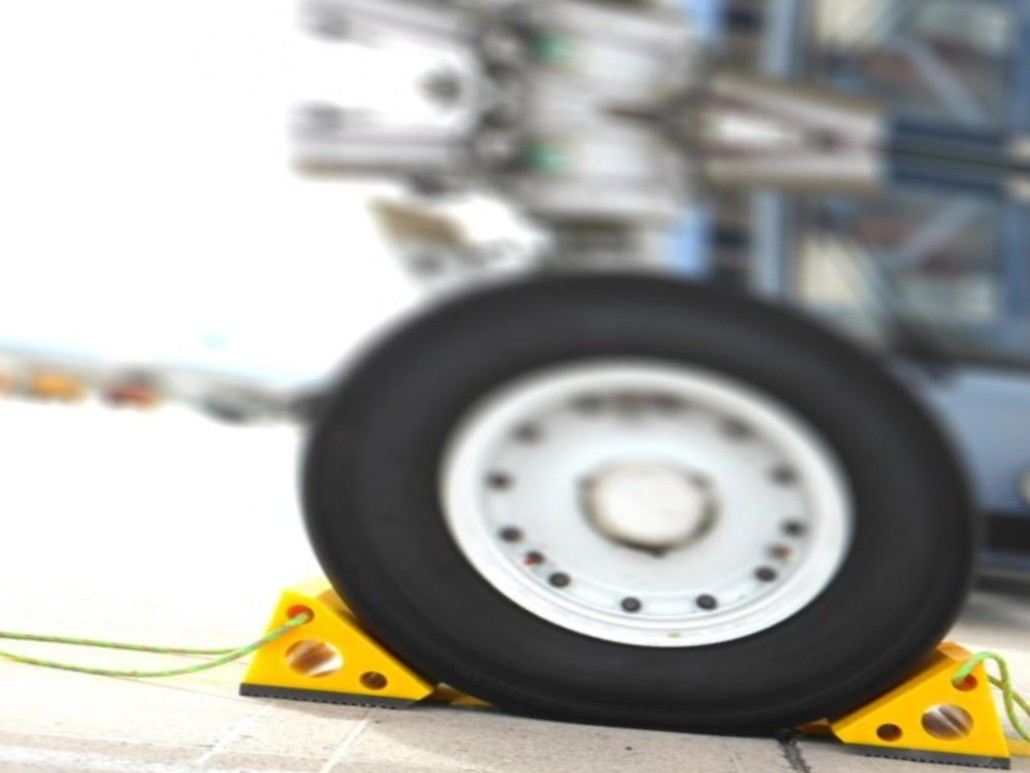chock: (228, 561, 463, 720), (804, 624, 1030, 773)
wheel: (262, 235, 1013, 773)
